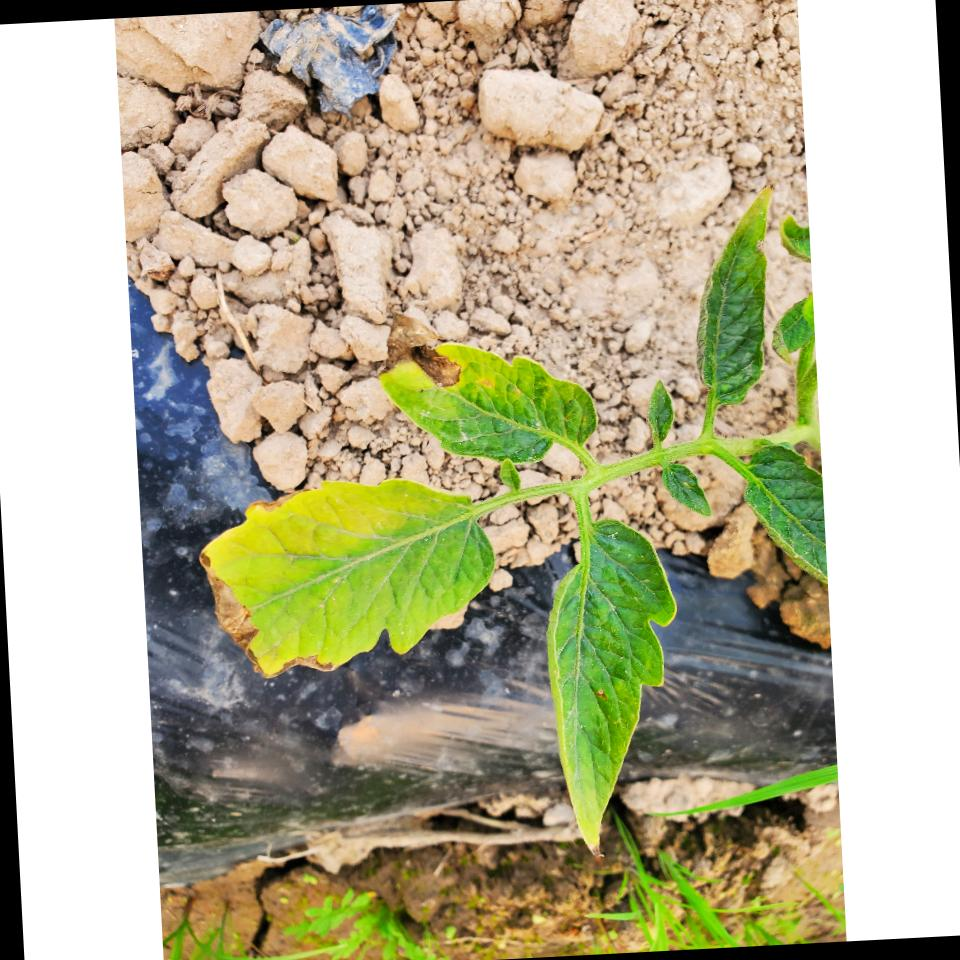tomato_yellow_leaf_curl_virus: (201, 476, 499, 678), (543, 516, 681, 856), (382, 302, 597, 466), (685, 184, 788, 404)
